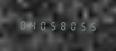eight: (57, 19, 66, 31)
five: (47, 19, 56, 30), (77, 20, 86, 31), (87, 20, 96, 31)
four: (27, 19, 36, 30)
zero: (17, 19, 26, 30), (37, 19, 46, 30), (67, 20, 76, 31)
